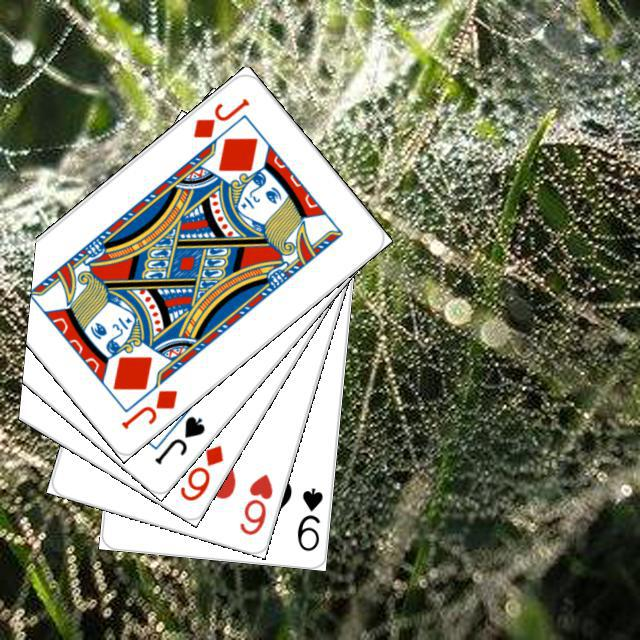6d: (174, 440, 226, 503)
6h: (234, 469, 275, 537)
9s: (292, 483, 325, 553)
Jd: (115, 384, 180, 431), (187, 93, 252, 140)
Js: (149, 410, 207, 466)
